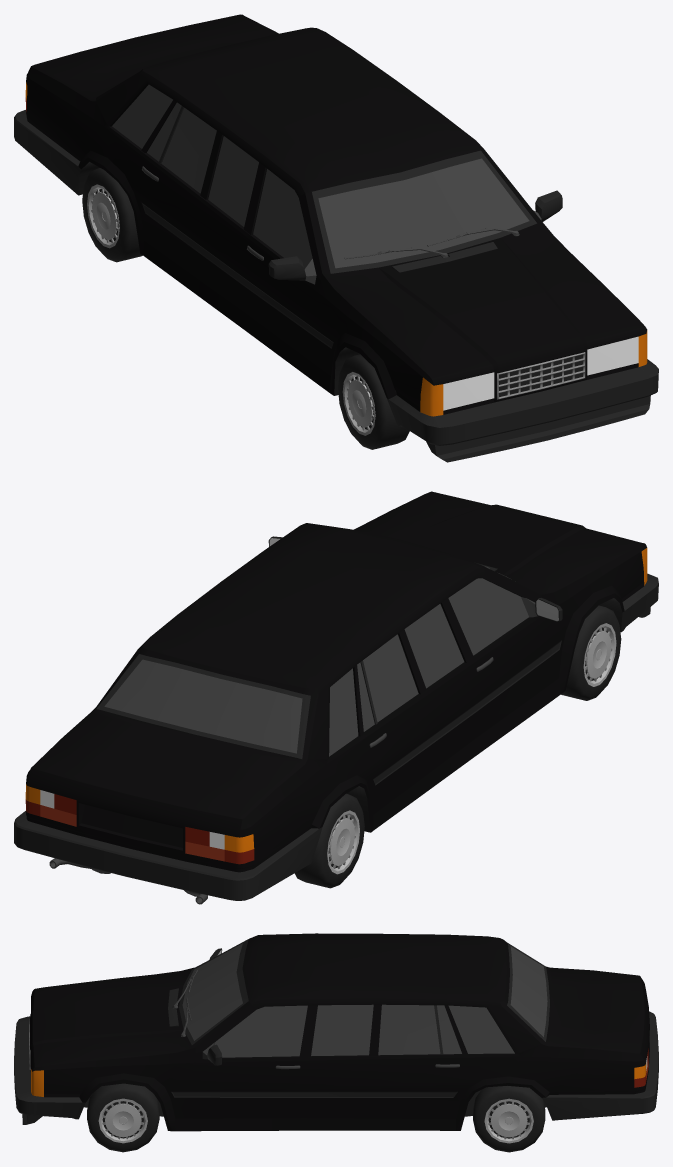
The picture shows the model from 3 angles, top to bottom: view 1: azimuth 30°, elevation 25°; view 2: azimuth 150°, elevation 25°; view 3: azimuth 270°, elevation 25°; orthographic projection. The views are drawn at different scales.
Visible parts, largest first — view 1: 4_palette_0, w4, w4.003; view 2: 4_palette_0, w4.003, w4; view 3: 4_palette_0, w4.001, w4.002.
Part boxes in pixels (x1,y1,x2,y2): 4_palette_0: (14,14,658,462); w4: (338,354,409,449); w4.003: (82,168,142,262); 4_palette_0: (14,491,658,900); w4.003: (294,793,364,888); w4: (561,605,621,700); 4_palette_0: (14,933,658,1131); w4.001: (87,1083,159,1152); w4.002: (473,1086,545,1152).
Size of the model in its own units: 2.13 by 1.36 by 5.41.
Materials: 1 (1 with a texture image).
